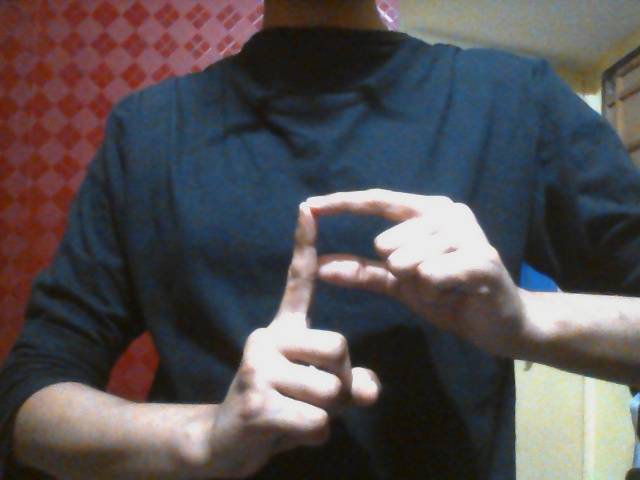P: (221, 187, 506, 454)
